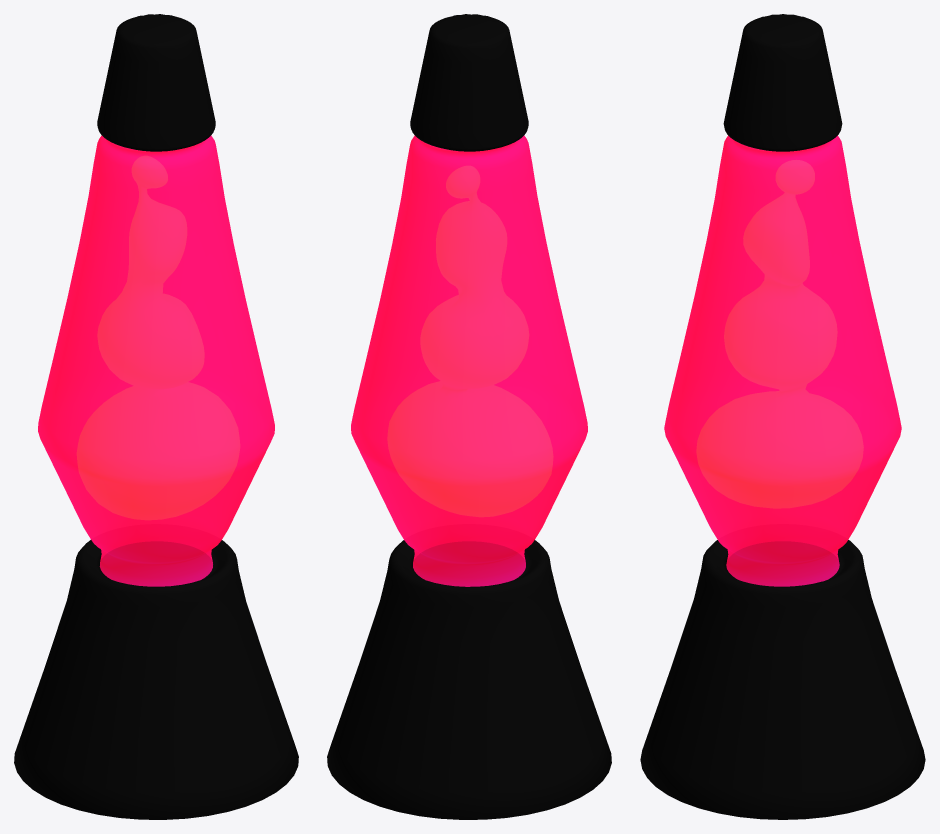
3 views of the same model, side by side, from view 1: azimuth 30°, elevation 25°; view 2: azimuth 150°, elevation 25°; view 3: azimuth 270°, elevation 25° (orthographic).
Visible parts, largest first — view 1: pCylinder1, LAVAMESH; view 2: pCylinder1, LAVAMESH; view 3: pCylinder1, LAVAMESH.
Boxes of the visible parts, x1,y1,x2,y2 form: pCylinder1: [14, 14, 298, 819]; LAVAMESH: [77, 156, 239, 519]; pCylinder1: [327, 14, 611, 819]; LAVAMESH: [388, 168, 552, 516]; pCylinder1: [640, 14, 925, 819]; LAVAMESH: [697, 161, 862, 507].
Size of the model in its own units: 2.95 by 8.4 by 2.95.
